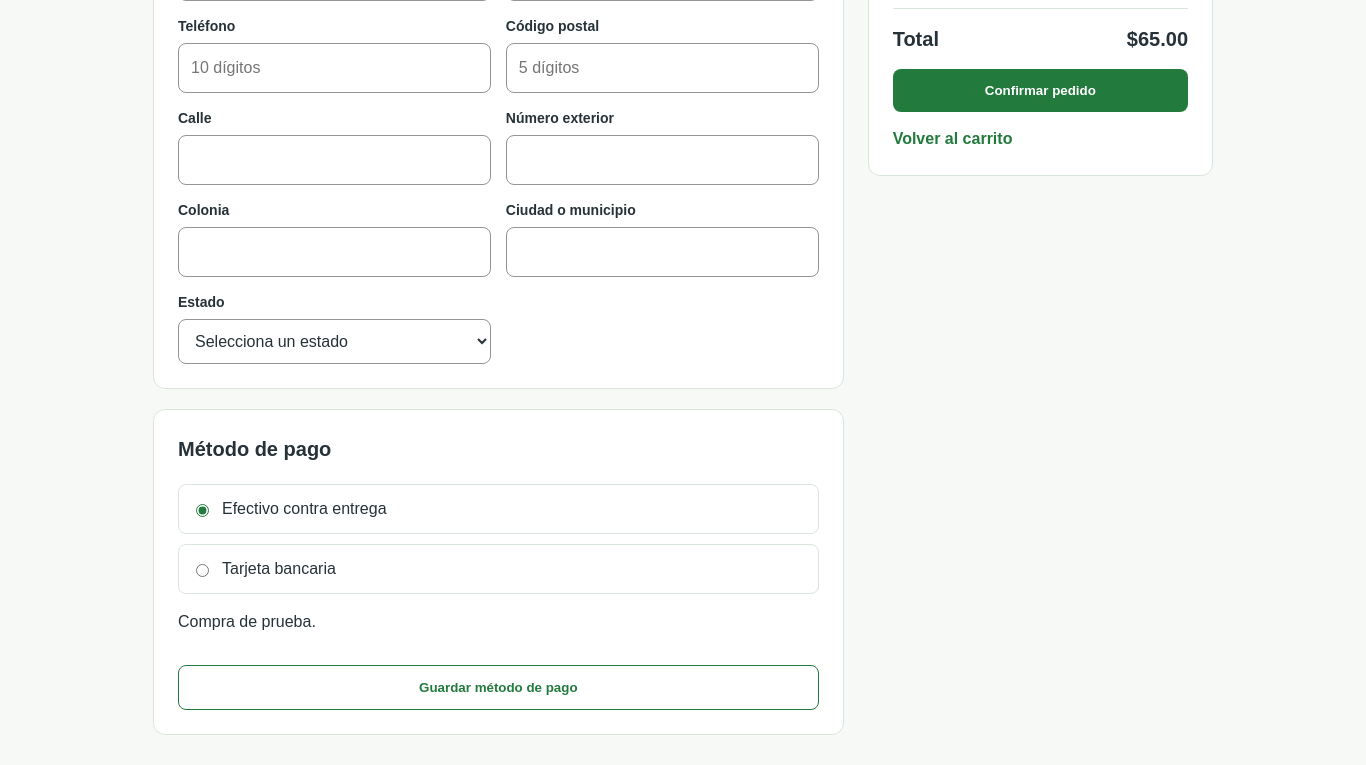
Test case: Checkout › permite guardar el método de pago
(page scrolled)
Click the radio button labelled "Tarjeta bancaria": (202, 570) [196,564,209,577]
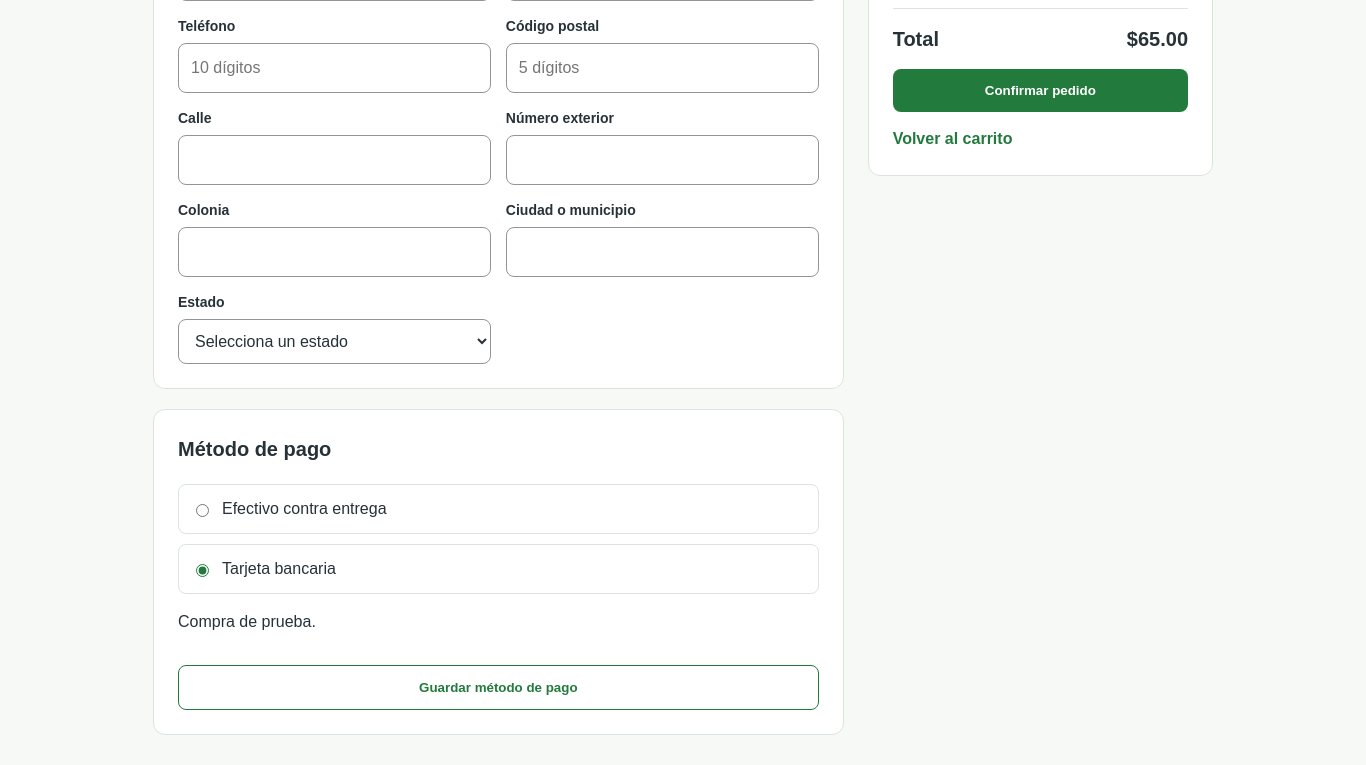
Click the button "Guardar método de pago": (498, 688) [178,665,819,710]
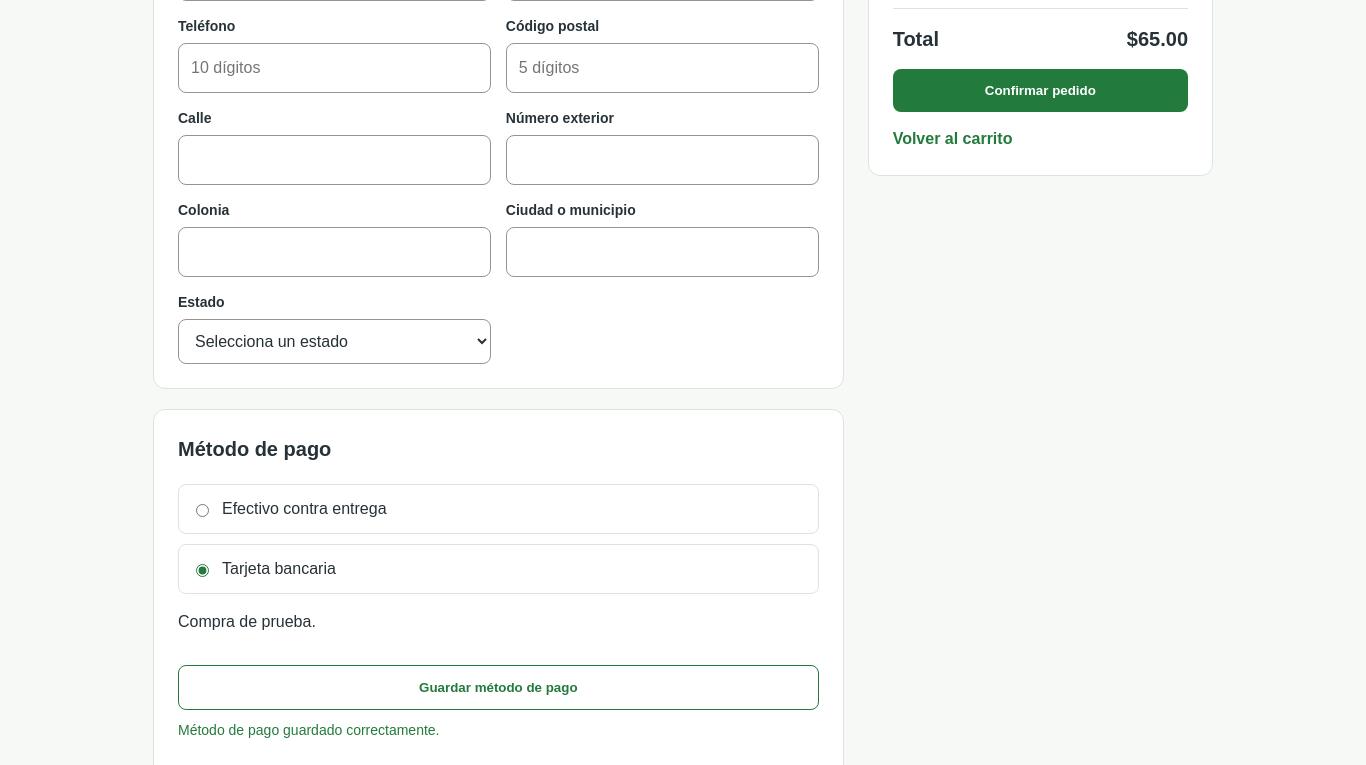
Expected: the text "Método de pago guardado correctamente." is shown, [178,722,440,738]
